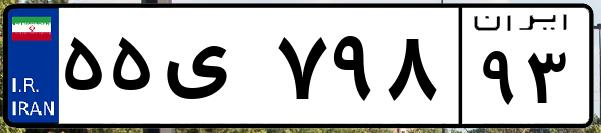3: (525, 38, 570, 115)
5: (57, 26, 110, 100), (110, 28, 158, 98)
7: (270, 28, 330, 110)
8: (385, 28, 445, 110)
9: (330, 28, 385, 110), (475, 38, 525, 113)
ی: (158, 20, 270, 120)
